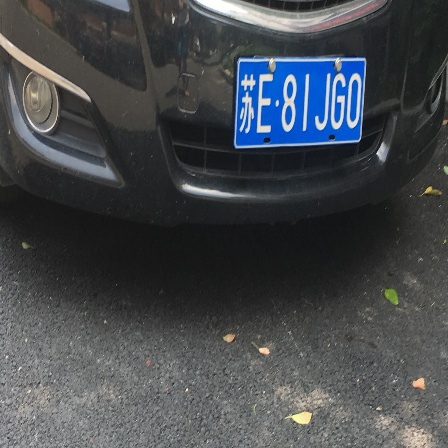plate: (236, 54, 367, 148)
